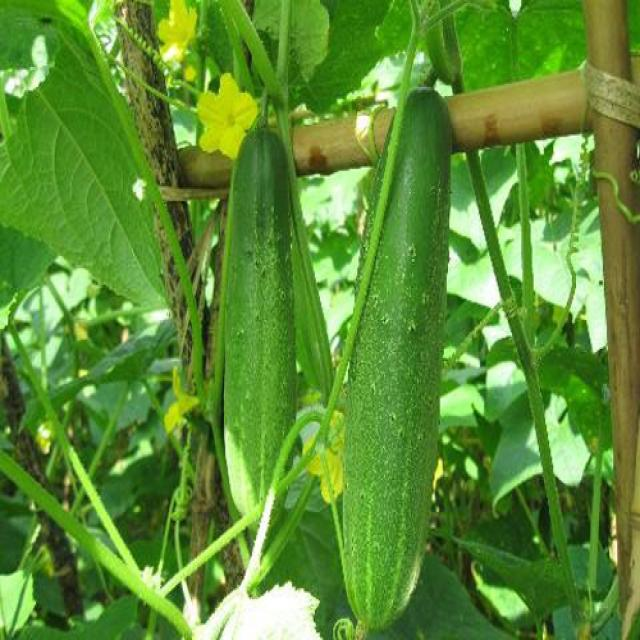cucumber: (340, 88, 448, 629), (225, 122, 295, 525)
